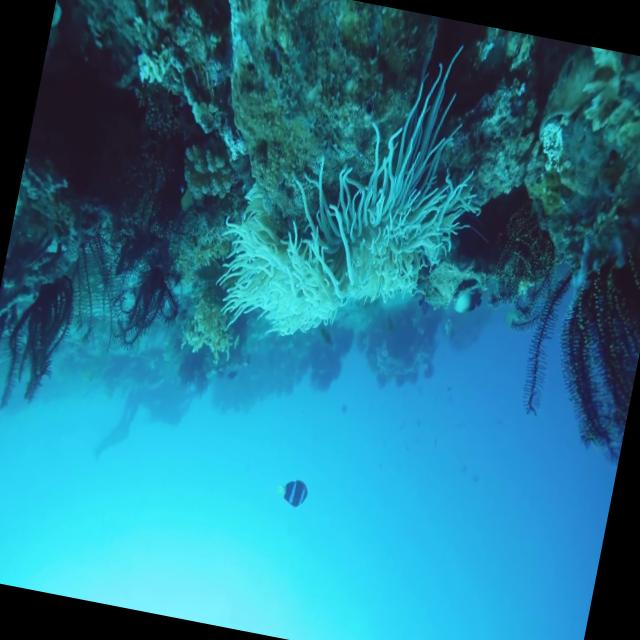fish: (268, 468, 312, 514)
